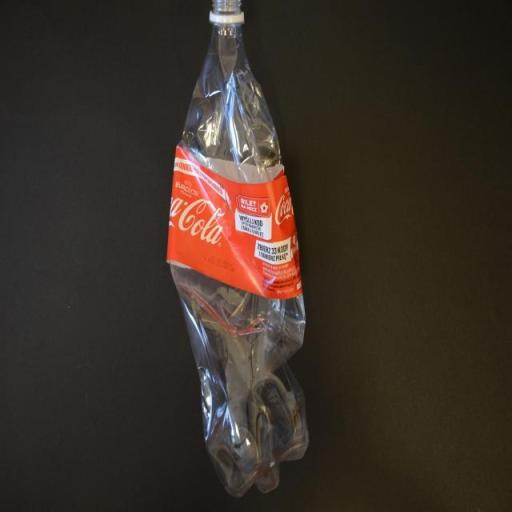plastic: (165, 0, 308, 498)
